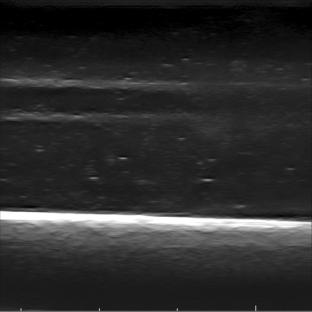vessel: (1, 77, 130, 125)
